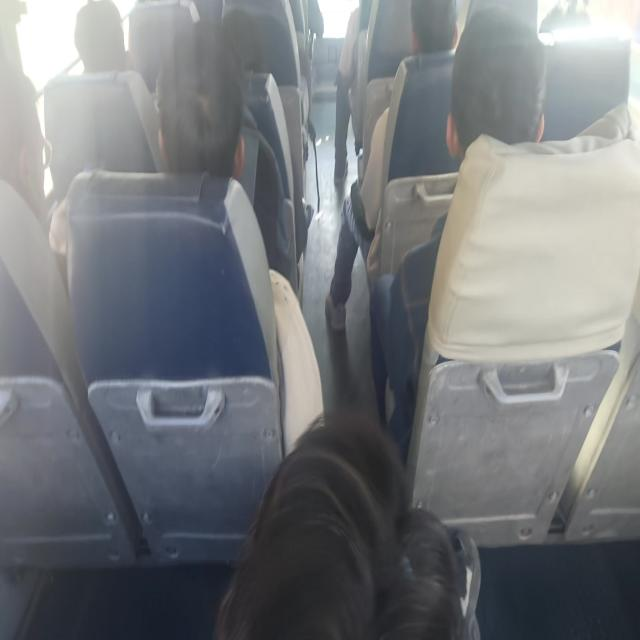person: (368, 3, 547, 461), (213, 409, 470, 638), (324, 0, 459, 332), (155, 21, 296, 287), (155, 22, 246, 179), (1, 66, 53, 236), (332, 0, 371, 186), (73, 0, 128, 73)
